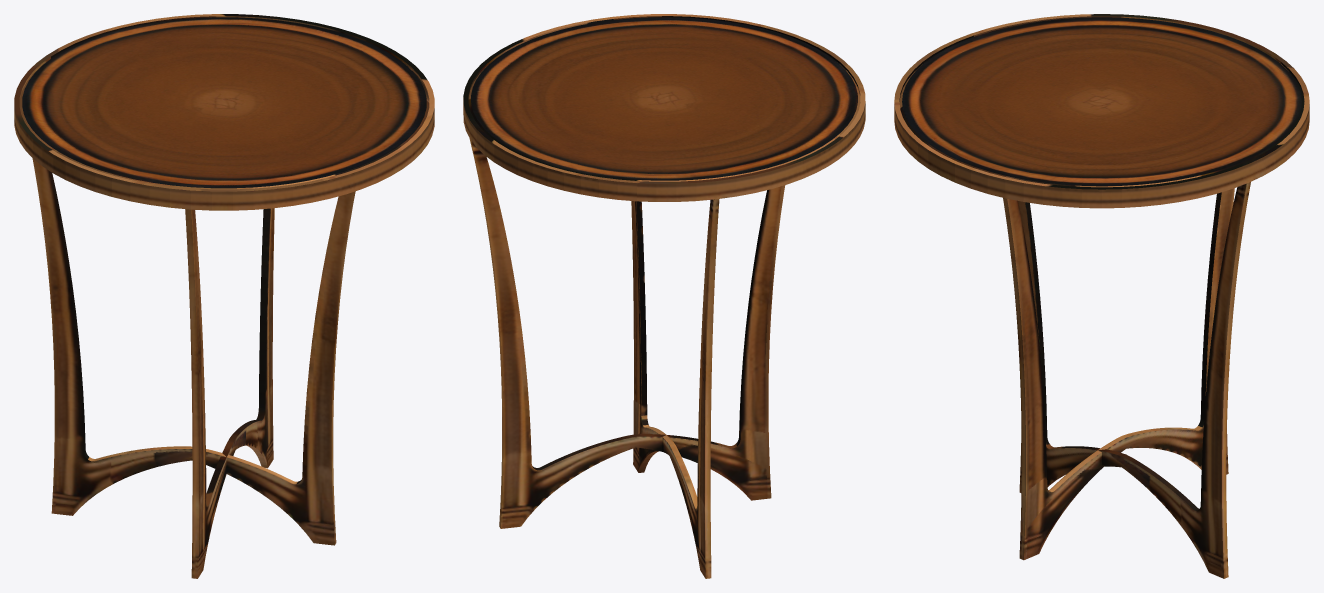
The model's file is edited_mesh.glb.
3 renders of one model, left to right at view 1: azimuth 30°, elevation 25°; view 2: azimuth 150°, elevation 25°; view 3: azimuth 270°, elevation 25°, orthographic. The views are drawn at different scales.
Parts seen in each view (by area): view 1: solid_001_wire; view 2: solid_001_wire; view 3: solid_001_wire.
Boxes of the visible parts, x1=… form: solid_001_wire: x1=14, y1=14, x2=434, y2=578; solid_001_wire: x1=463, y1=14, x2=865, y2=578; solid_001_wire: x1=894, y1=14, x2=1309, y2=578.
Size of the model in its own units: 1.23 by 1.38 by 1.23.
Materials: 1 (1 with a texture image).
